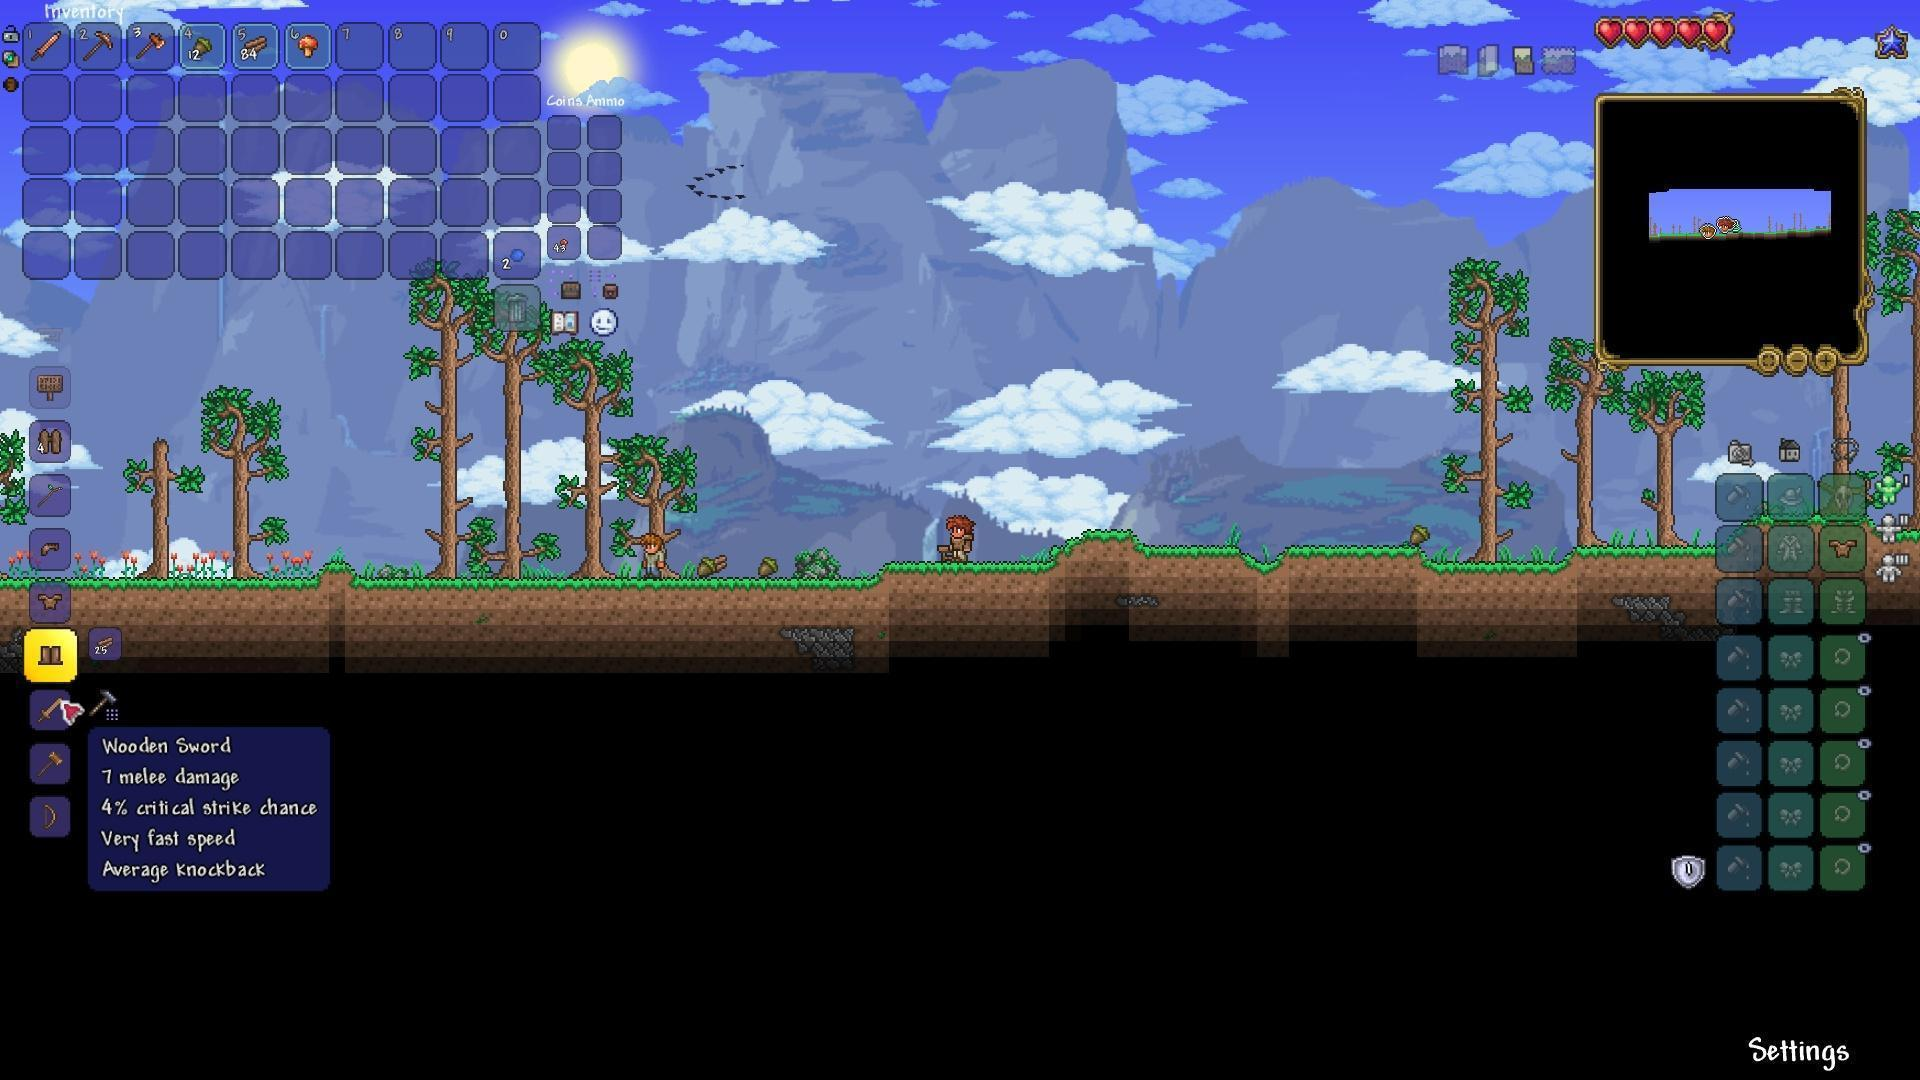breastplate: (37, 591, 65, 615), (1830, 538, 1858, 560)
helmet: (38, 537, 62, 560)
legs: (37, 642, 67, 665)
wood: (239, 29, 270, 59), (90, 630, 121, 661), (707, 551, 728, 579)
